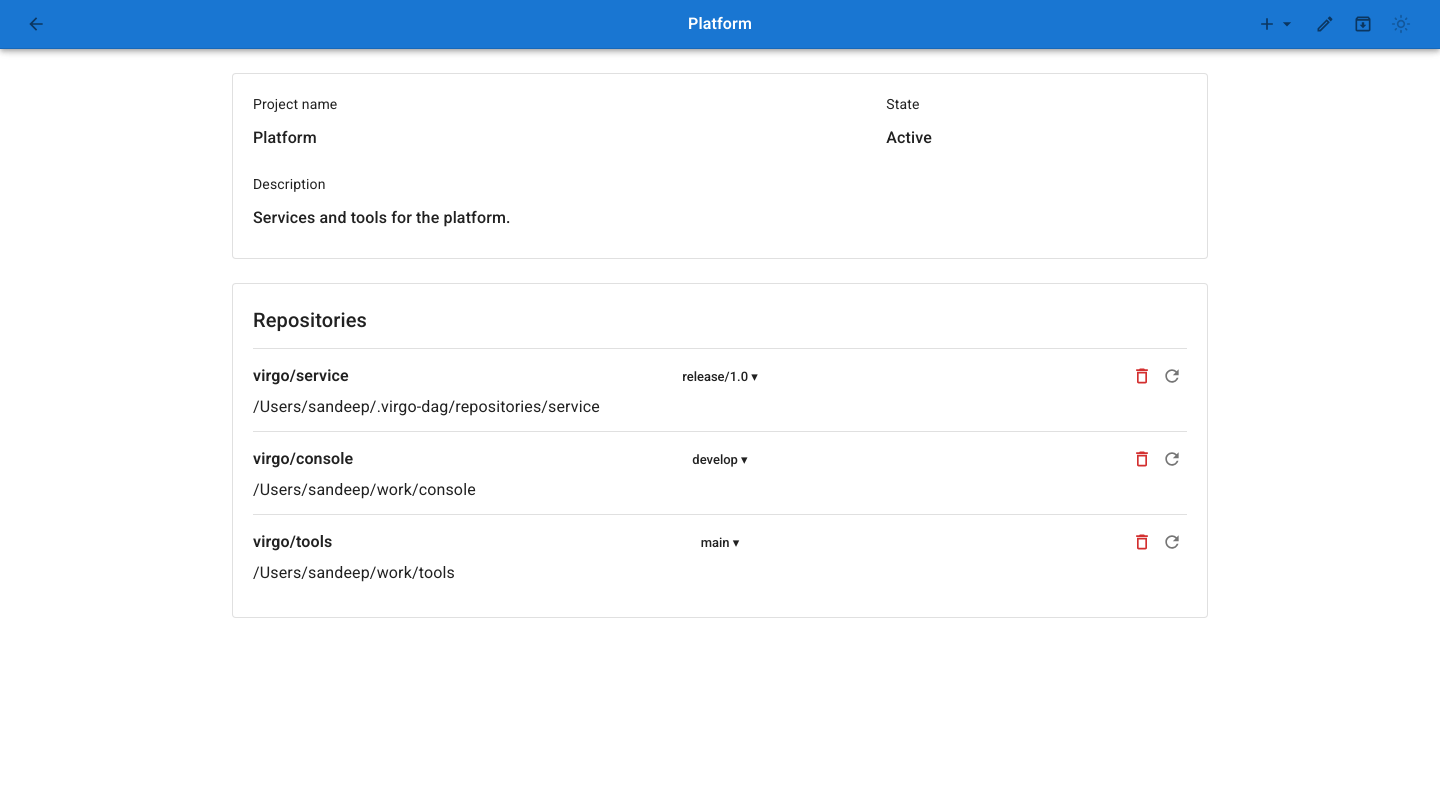
Test: ProjectDetailsScreen preserves the repository when removal is confirmed
The width and height of the screenshot is (1440, 810).
Click the button named "Remove from project" in the row of "virgo/service" at (1142,376), box [1127, 361, 1157, 391]
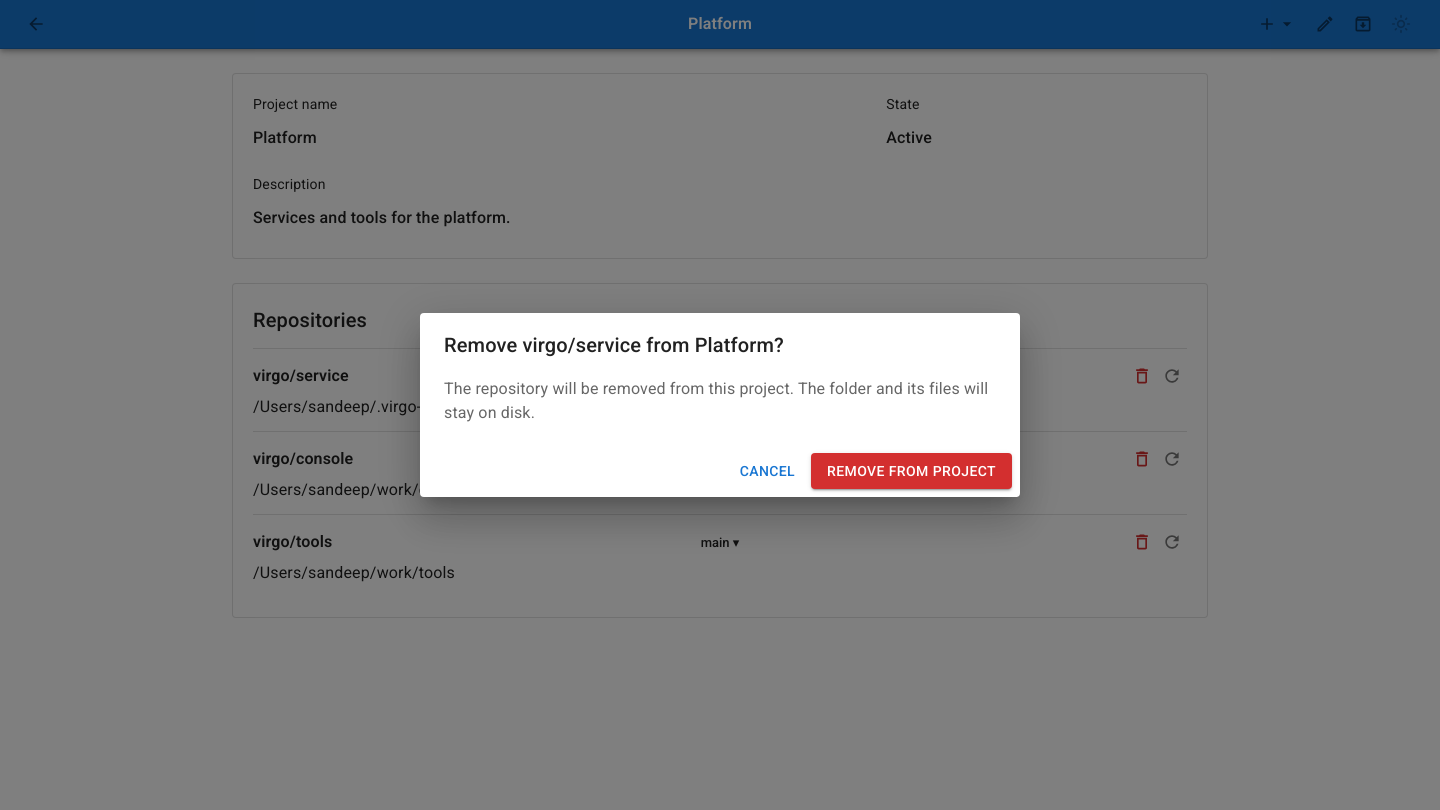
Click the button "Remove from project" at (912,471), box [811, 453, 1012, 489]
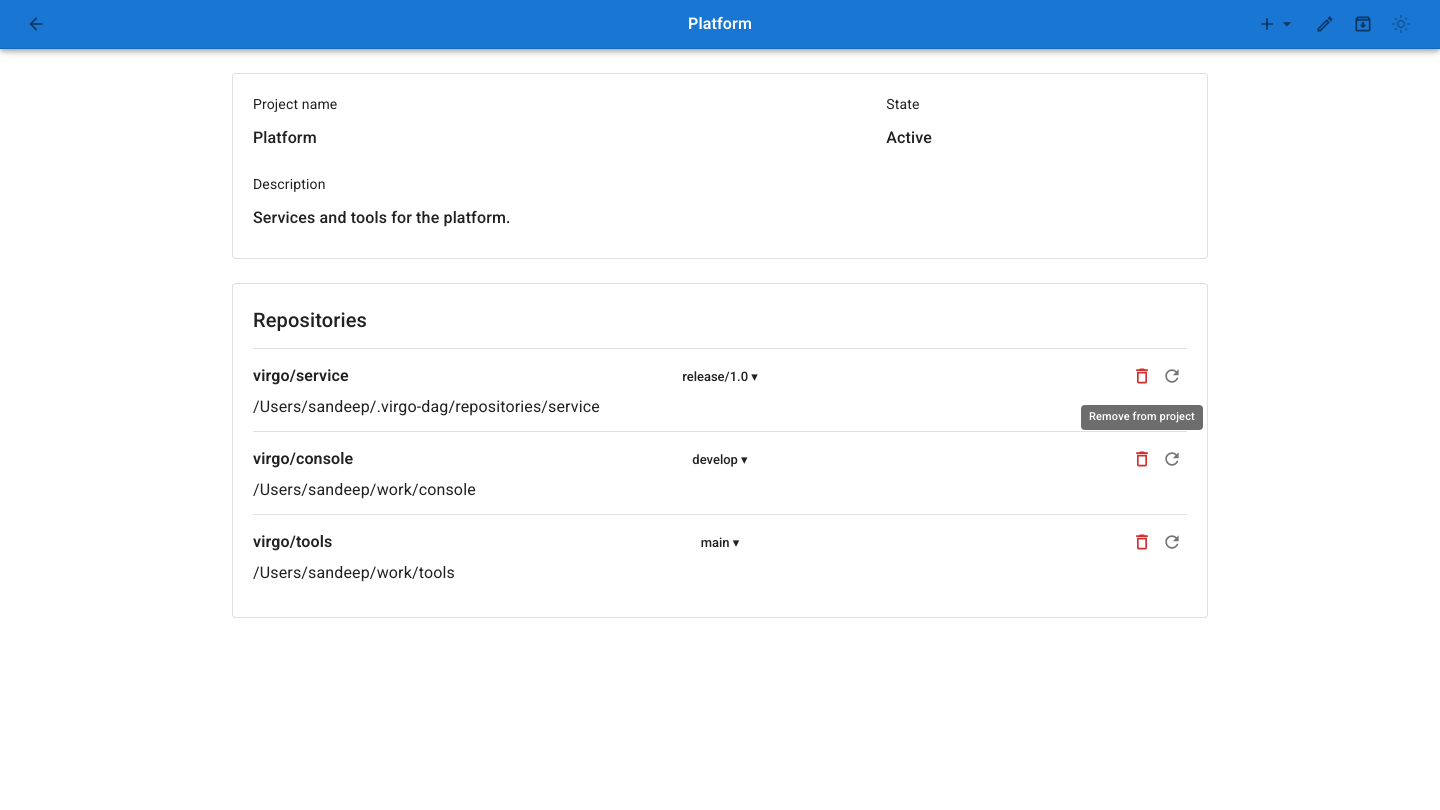
Expected: the list item "virgo/service" is shown, [253, 348, 1187, 431]
Now the dialog is gone
